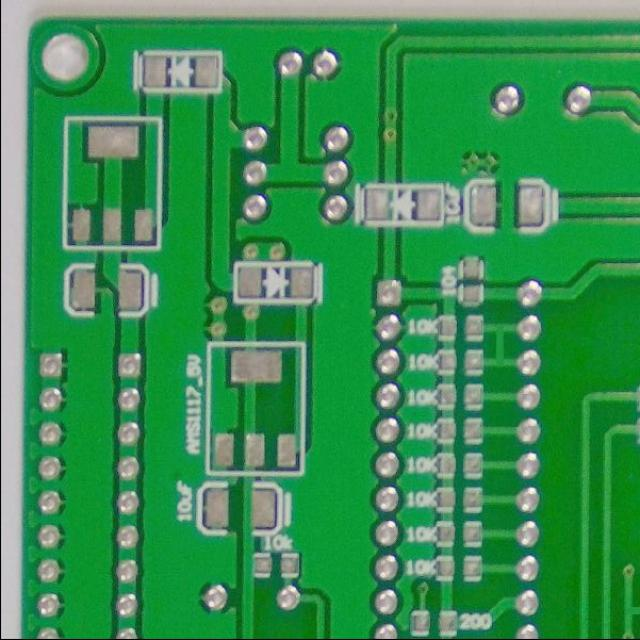Short_Circuit: (484, 315, 516, 373), (617, 592, 639, 632)
